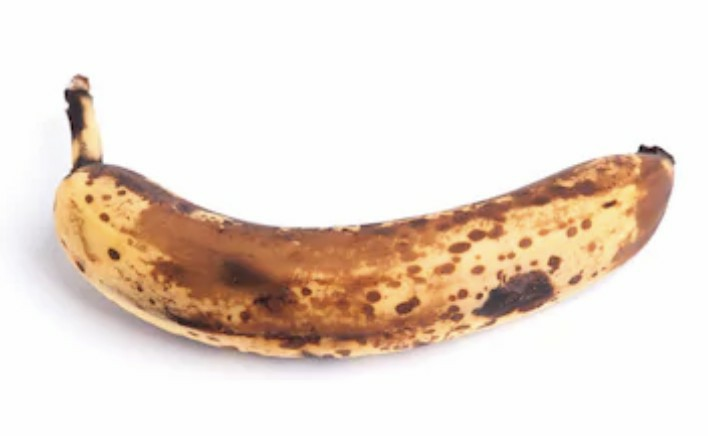rotten_banana: (57, 92, 674, 357)
